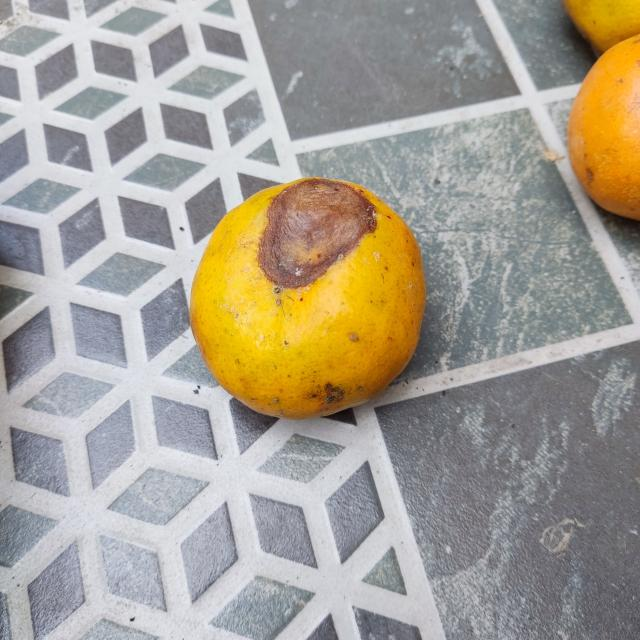orange: (186, 177, 424, 419)
